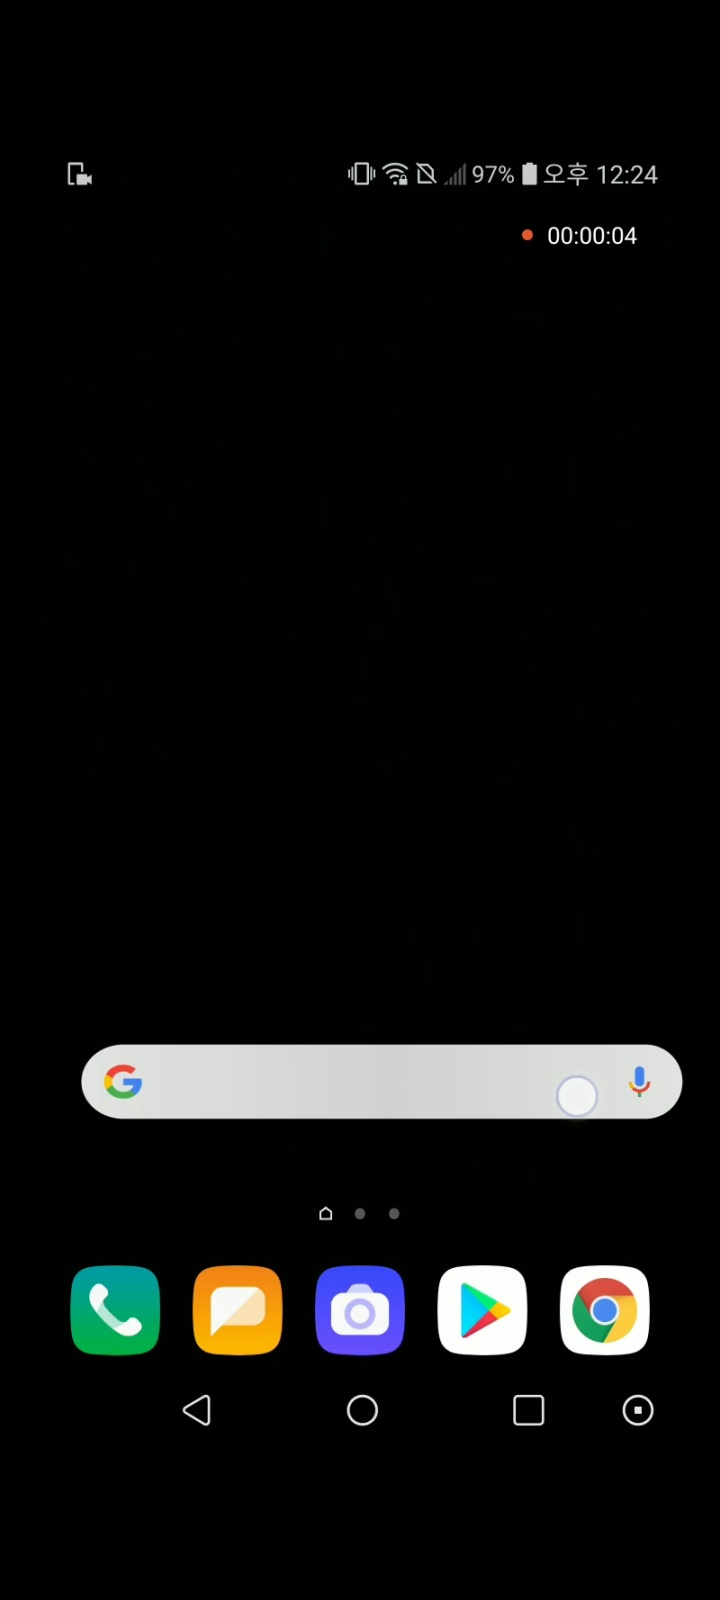Cursor: (556, 1076, 601, 1120)
